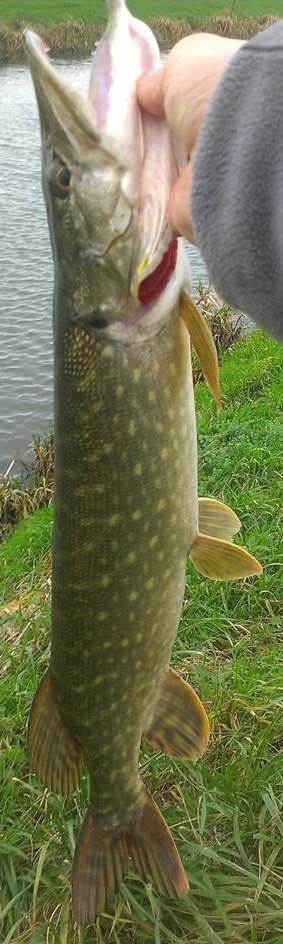Esox lucius: (20, 1, 263, 924)
